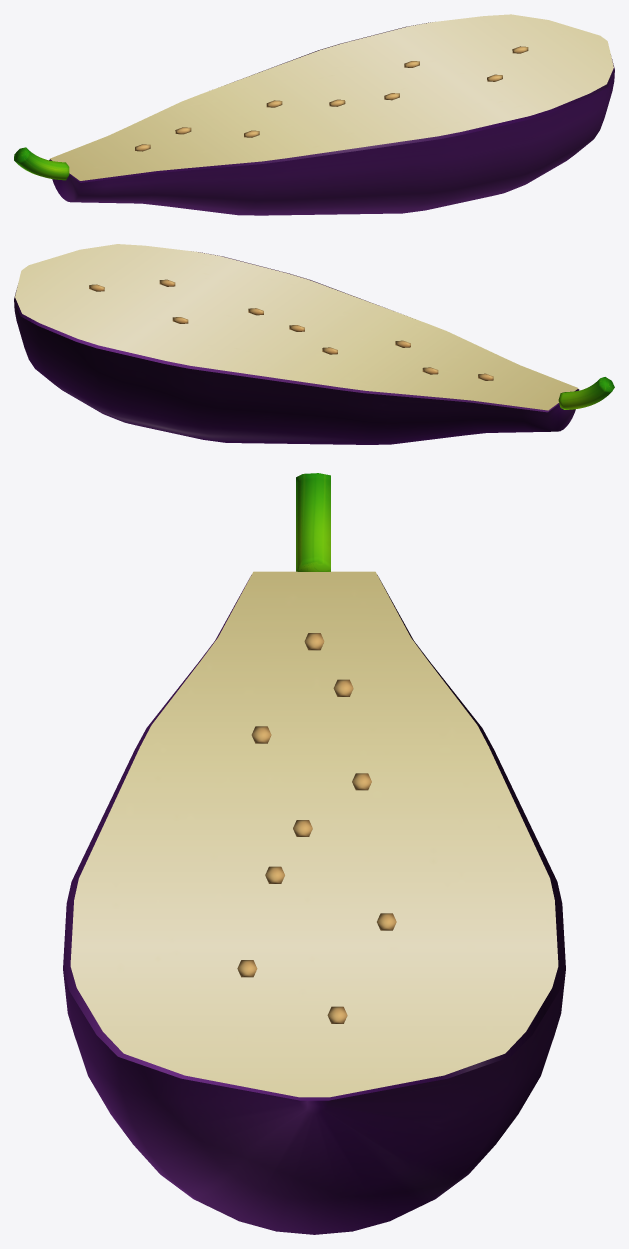
File: NP_Eggplant_CutHalf.fbx
3 views of the same model, one above another, from view 1: azimuth 30°, elevation 25°; view 2: azimuth 150°, elevation 25°; view 3: azimuth 270°, elevation 25° (orthographic). The views are drawn at different scales.
Visible parts, largest first — view 1: NP_Eggplant_CutHalf.001; view 2: NP_Eggplant_CutHalf.001; view 3: NP_Eggplant_CutHalf.001.
Part boxes in pixels (x1,y1,x2,y2): NP_Eggplant_CutHalf.001: [14, 14, 614, 215]; NP_Eggplant_CutHalf.001: [14, 244, 614, 444]; NP_Eggplant_CutHalf.001: [63, 473, 565, 1234].
Size of the model in its own units: 40.42 by 9.62 by 14.96.
